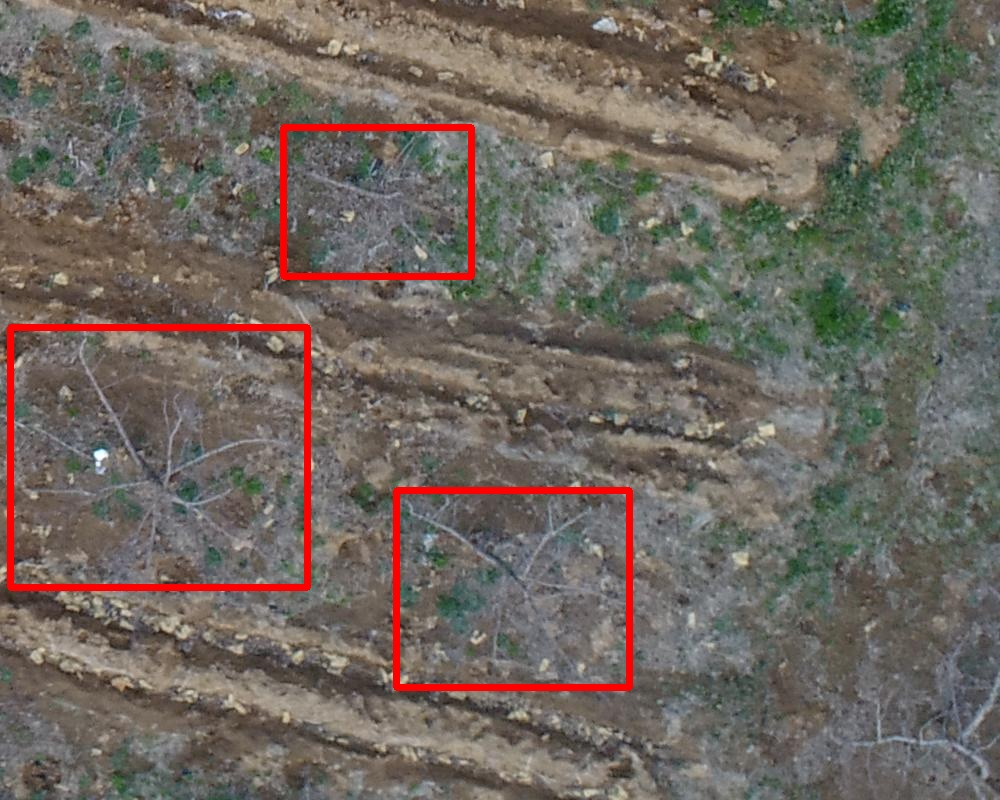apple: (10, 327, 307, 587), (396, 490, 629, 687), (283, 127, 471, 276)
